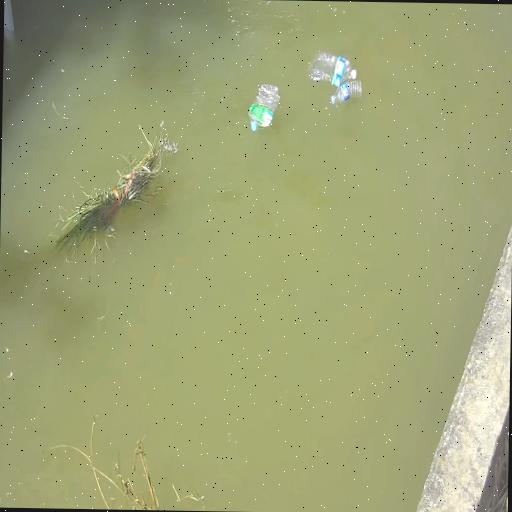plastic: (309, 51, 362, 104), (249, 84, 280, 130)
twig: (56, 123, 177, 254), (49, 418, 159, 510)
